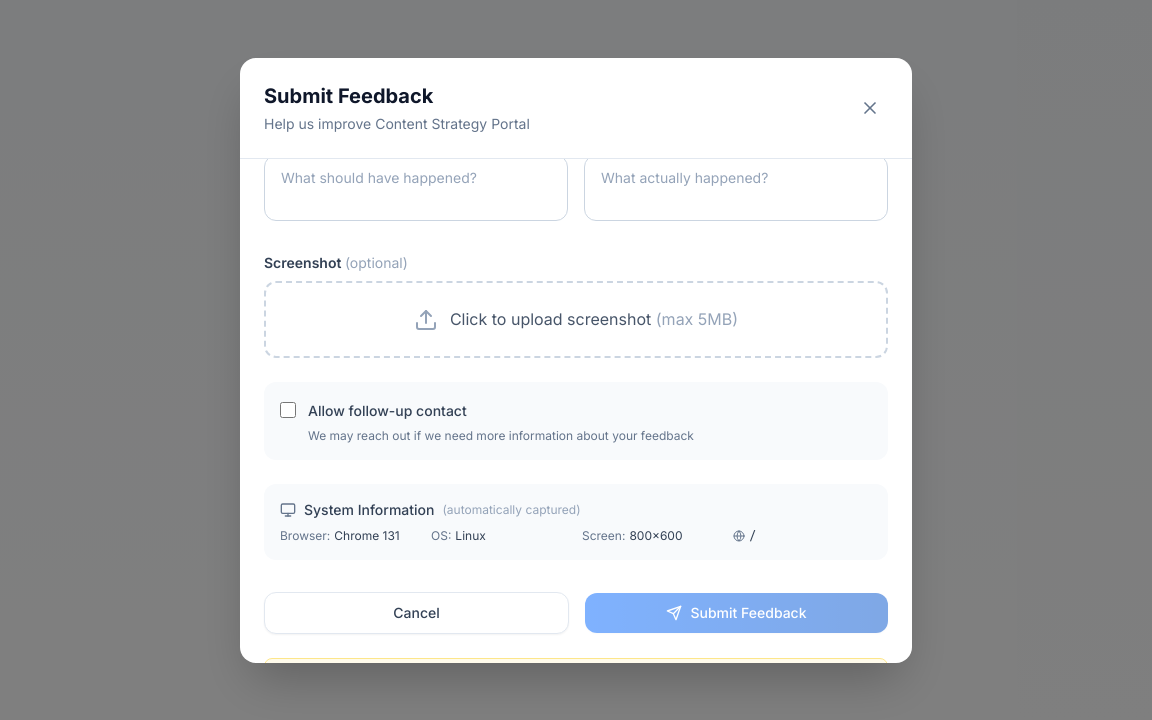
FeedbackForm › form interactions › shows email input when allow contact is checked
(page scrolled)
Click the checkbox at coordinates (288, 410), box [280, 402, 296, 418]
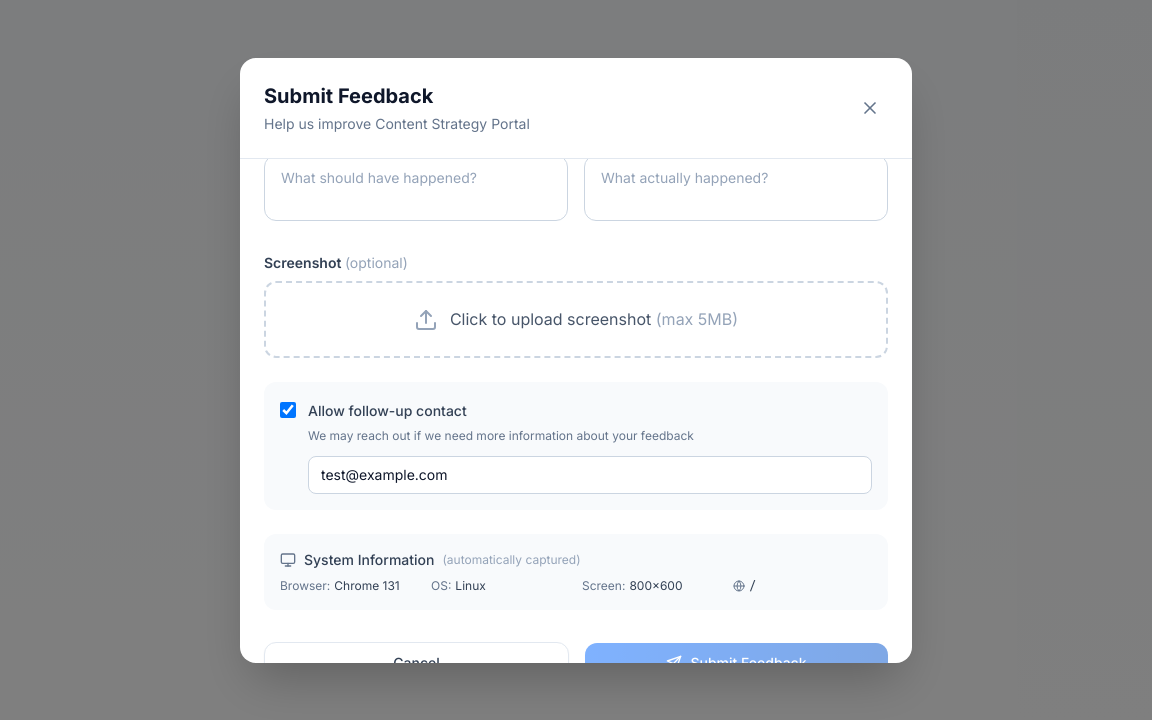
Expected: the field with placeholder "Your email address" is shown, [308, 456, 872, 494]
